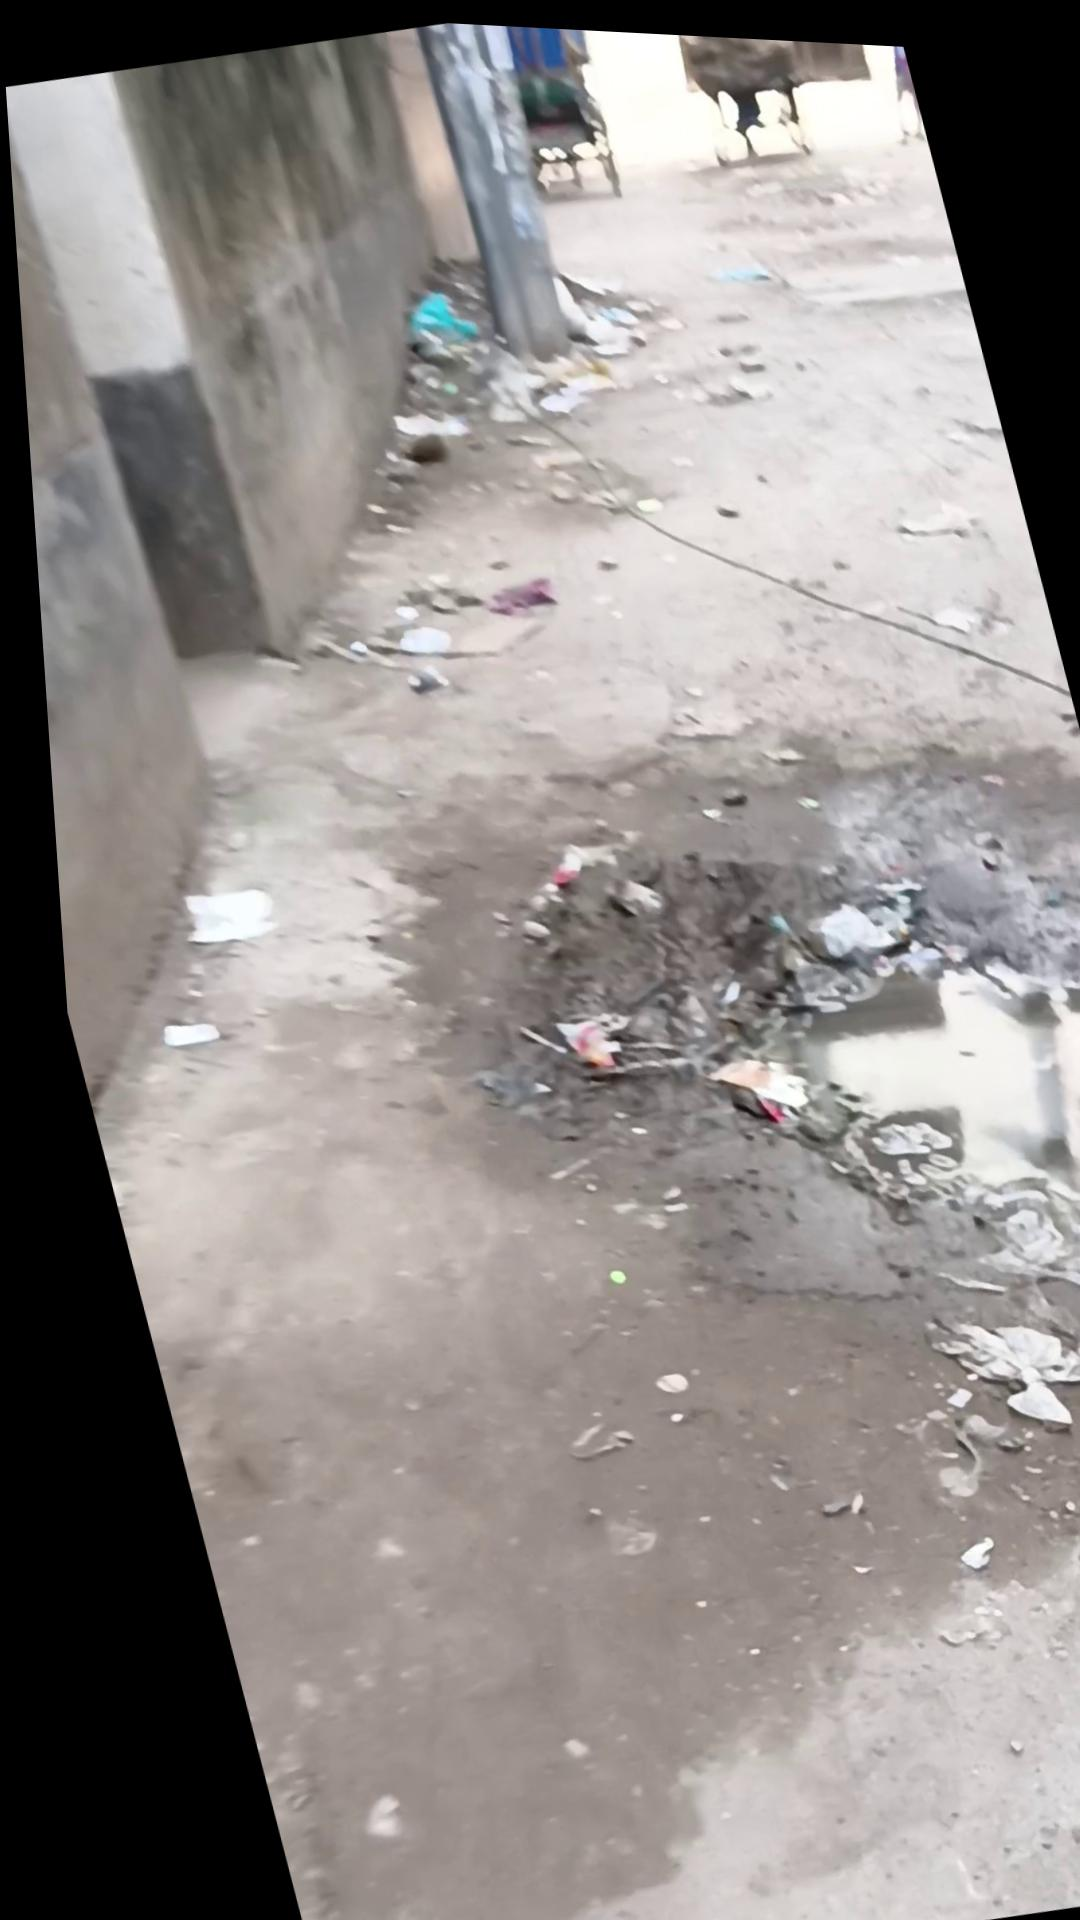Broken-road: (1, 16, 1080, 1920)
Muddy road: (866, 36, 926, 137)
Obstacle: (411, 17, 584, 368)
Railroad-crossing: (426, 682, 1080, 1480)
